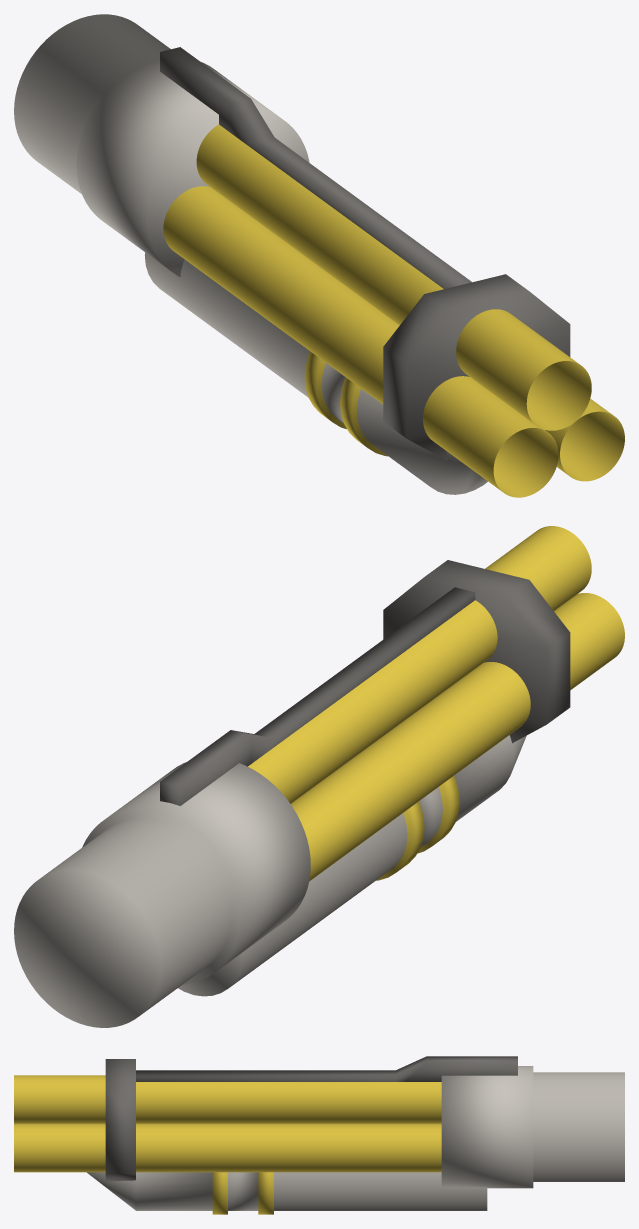
File: SlugThrower (Untextured).fbx
3 renders of one model, top to bottom at view 1: azimuth 30°, elevation 25°; view 2: azimuth 150°, elevation 25°; view 3: azimuth 270°, elevation 25°, orthographic. The views are drawn at different scales.
Parts seen in each view (by area): view 1: Cylinder.001, Cylinder, Cube, Cylinder.002; view 2: Cylinder, Cylinder.001, Cube, Cylinder.002; view 3: Cylinder.001, Cylinder, Cylinder.002, Cube.
Boxes of the visible parts, x1,y1,x2,y2 form: Cylinder.001: (163, 124, 624, 497); Cylinder: (14, 14, 309, 276); Cube: (160, 47, 570, 460); Cylinder.002: (144, 252, 502, 494); Cylinder: (14, 762, 310, 1027); Cylinder.001: (248, 526, 624, 881); Cube: (160, 560, 570, 805); Cylinder.002: (178, 735, 526, 996); Cylinder.001: (14, 1075, 441, 1172); Cylinder: (441, 1066, 624, 1188); Cylinder.002: (87, 1172, 487, 1214); Cube: (105, 1056, 517, 1181).
Size of the model in its own units: 1 by 1.36 by 5.
